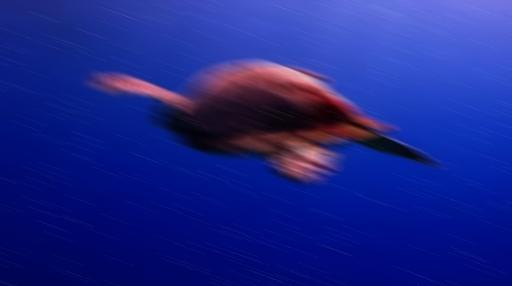Fish: (94, 63, 433, 180)
